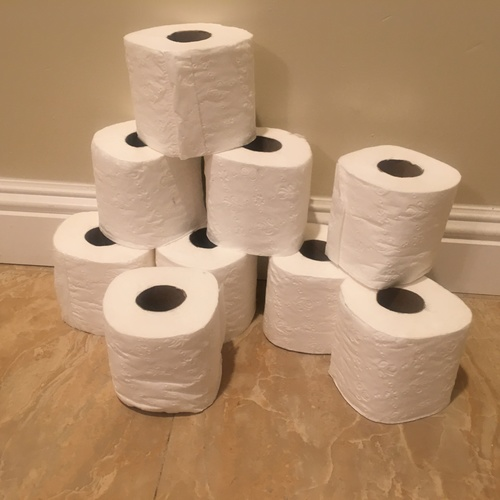roll: (327, 273, 475, 426), (323, 142, 463, 292), (121, 21, 260, 159), (101, 266, 225, 416), (89, 117, 205, 251), (202, 124, 313, 258), (154, 212, 259, 345), (51, 209, 154, 338), (260, 220, 347, 357)
